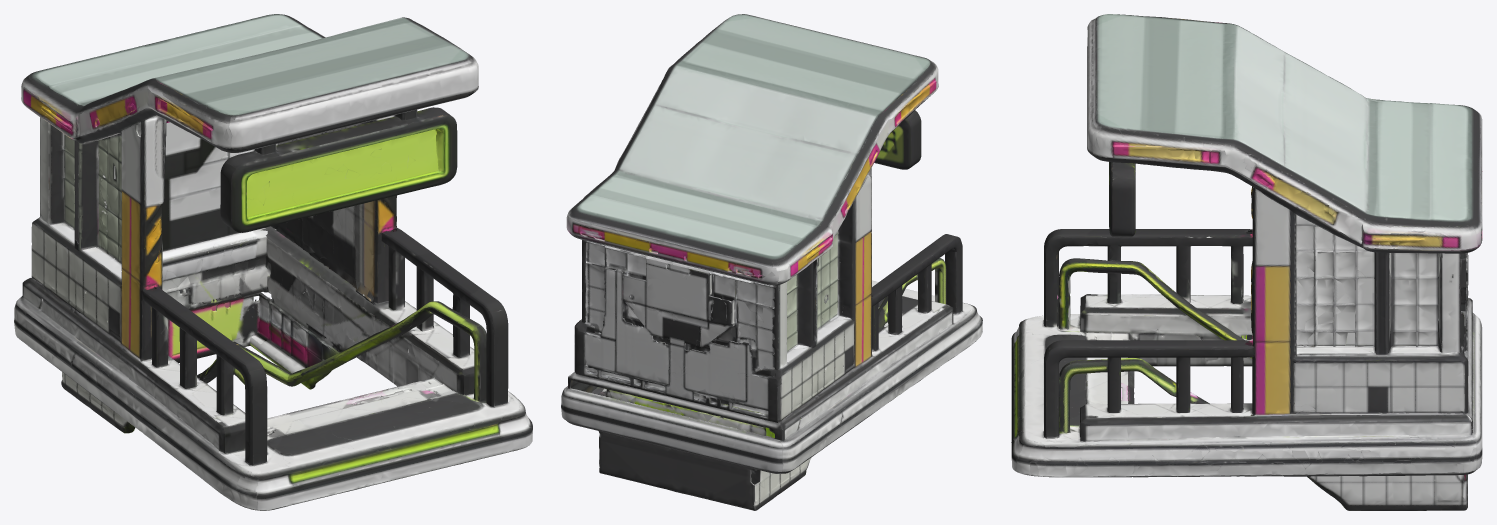
Rendered from u_bld_subway_entrance.glb.
3 renders of one model, left to right at view 1: azimuth 30°, elevation 25°; view 2: azimuth 150°, elevation 25°; view 3: azimuth 270°, elevation 25°, orthographic. The views are drawn at different scales.
Parts seen in each view (by area): view 1: geometry_0; view 2: geometry_0; view 3: geometry_0.
Part boxes in pixels (left/top/right/bottom): geometry_0: left=14, top=14, right=532, bottom=510; geometry_0: left=561, top=14, right=982, bottom=510; geometry_0: left=1011, top=14, right=1482, bottom=510.
Size of the model in its own units: 4.5 by 6.09 by 6.53.
1 material, 1 textured.
